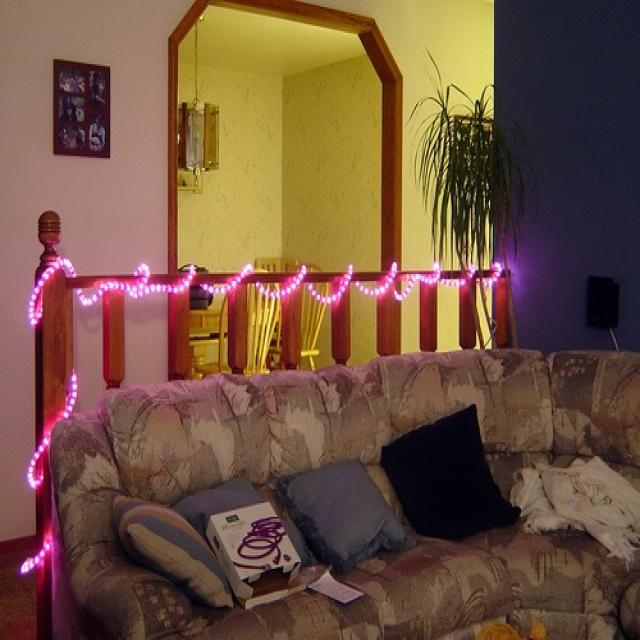chair: (197, 266, 283, 381), (301, 260, 328, 371)
pottedplant: (416, 50, 541, 268)
sofa: (51, 346, 640, 639)
